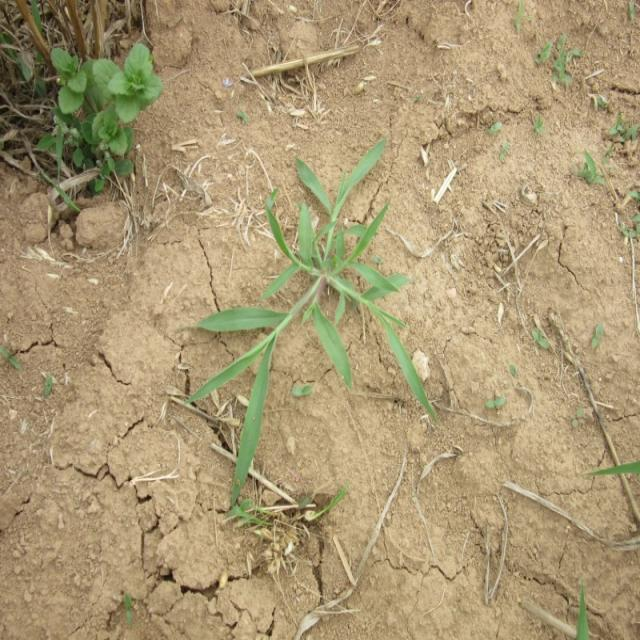bg: (182, 132, 445, 512)
